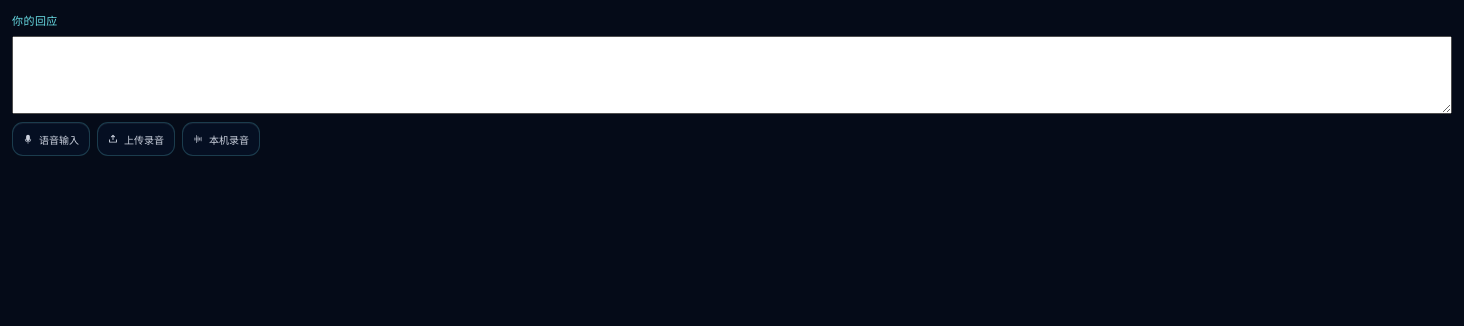
UtteranceInput recording lifecycle › keeps a quota-failed recording in memory with an immediate download
Click the button "语音输入". click: (51, 139)
box: [12,122,90,156]
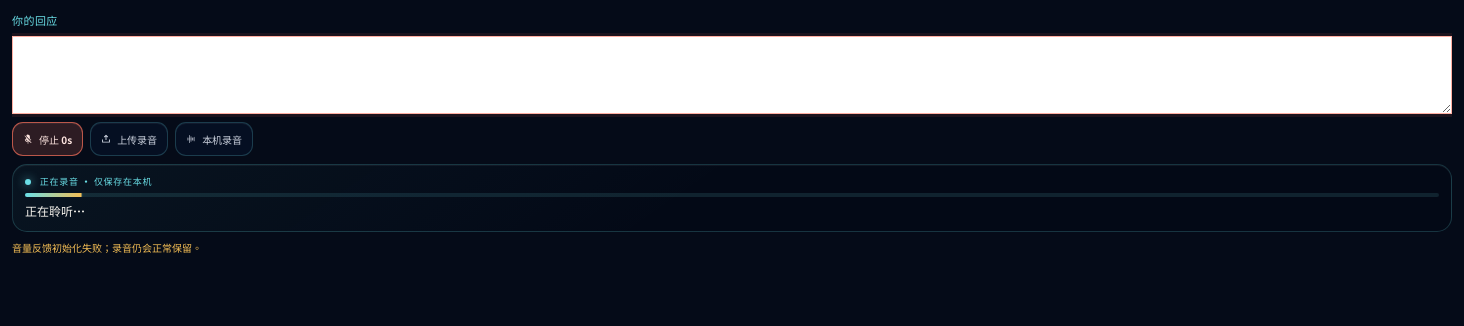
Click the button "停止 0s". click: (48, 139)
box: [12,122,83,156]
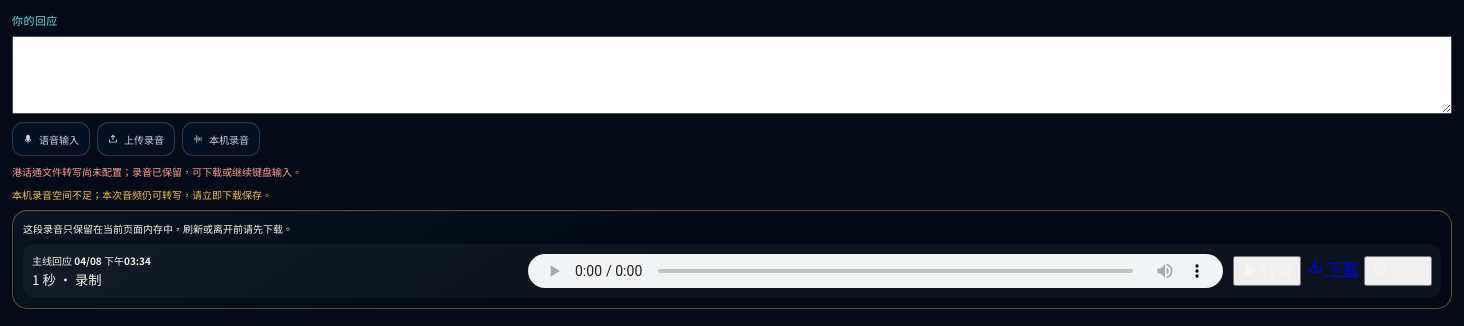
expect the text "本机录音空间不足；本次音频仍可转写，请立即下载保存。" is shown: met, box [12,187,272,202]
expect the element named "尚未保存的内存录音" is shown: met, box [12,210,1452,309]
